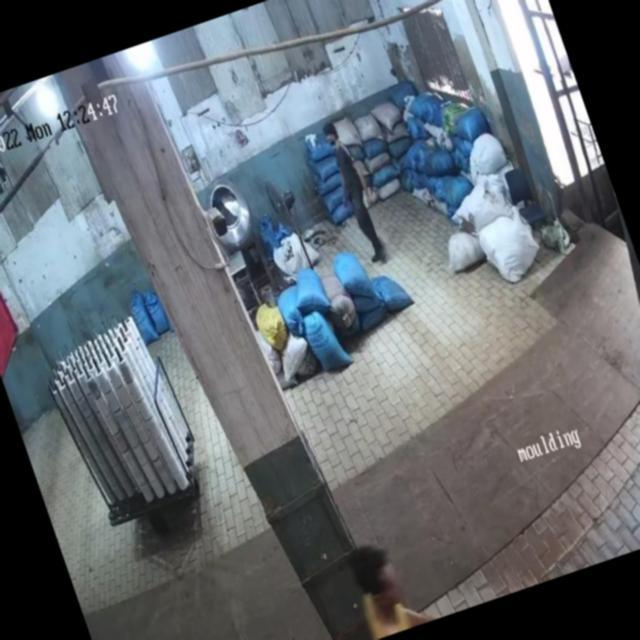person: (318, 116, 390, 258)
